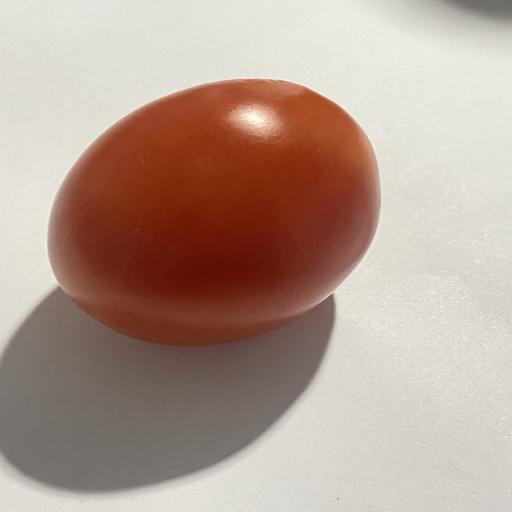ripe: (49, 79, 380, 345)
